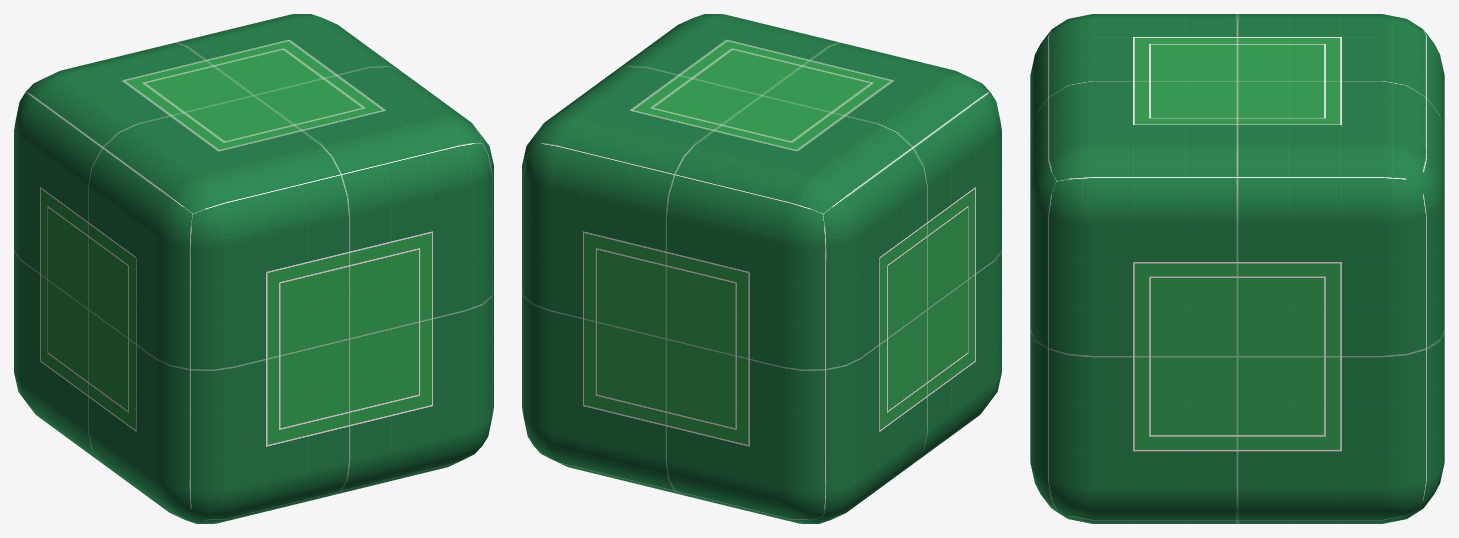
The model's file is cube_test_green_03.gltf.
3 views of the same model, side by side, from view 1: azimuth 30°, elevation 25°; view 2: azimuth 150°, elevation 25°; view 3: azimuth 270°, elevation 25° (orthographic). The views are drawn at different scales.
Visible parts, largest first — view 1: Cube; view 2: Cube; view 3: Cube.
Part boxes in pixels (x1=…): Cube: x1=14, y1=14, x2=493, y2=523; Cube: x1=522, y1=14, x2=1001, y2=523; Cube: x1=1030, y1=14, x2=1444, y2=523.
Size of the model in its own units: 4 by 4 by 4.
1 material, 1 textured.
